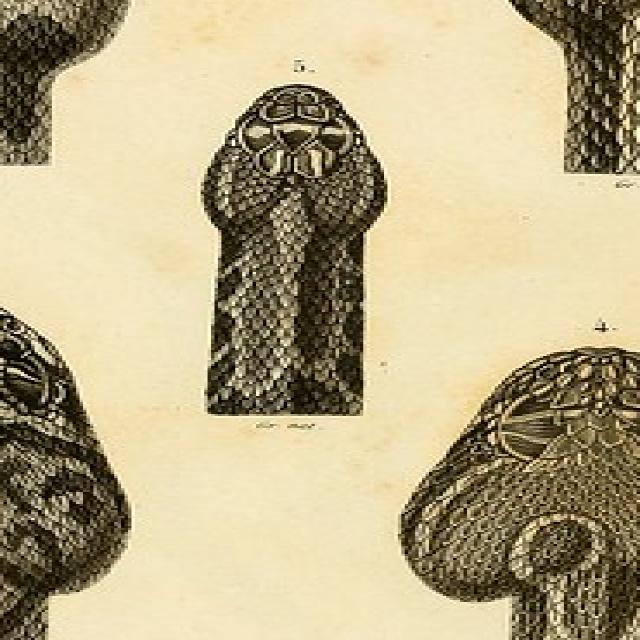Snake: (394, 342, 640, 640), (197, 82, 388, 416), (0, 294, 131, 640), (494, 0, 640, 174)
